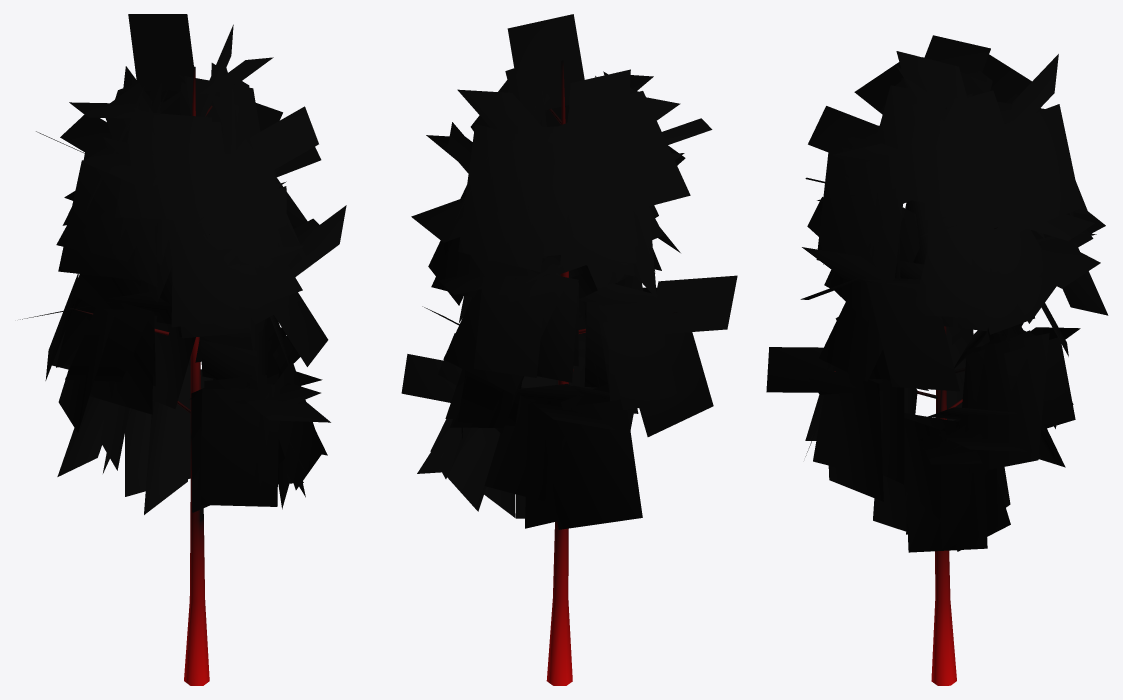
File: tree_birch_a_lod1.glb
3 renders of one model, left to right at view 1: azimuth 30°, elevation 25°; view 2: azimuth 150°, elevation 25°; view 3: azimuth 270°, elevation 25°, orthographic.
Parts seen in each view (by area): view 1: tree_birch_a_lod1.1, tree_birch_a_lod1.0; view 2: tree_birch_a_lod1.1, tree_birch_a_lod1.0; view 3: tree_birch_a_lod1.1, tree_birch_a_lod1.0.
Boxes of the visible parts, left/top/right/bottom form: tree_birch_a_lod1.1: left=20, top=14, right=346, bottom=514; tree_birch_a_lod1.0: left=69, top=66, right=212, bottom=685; tree_birch_a_lod1.1: left=401, top=14, right=737, bottom=529; tree_birch_a_lod1.0: left=510, top=60, right=677, bottom=685; tree_birch_a_lod1.1: left=766, top=35, right=1108, bottom=552; tree_birch_a_lod1.0: left=834, top=107, right=1073, bottom=685.
Bounding box in the file's own units: 7.34 × 14.43 × 7.03.
